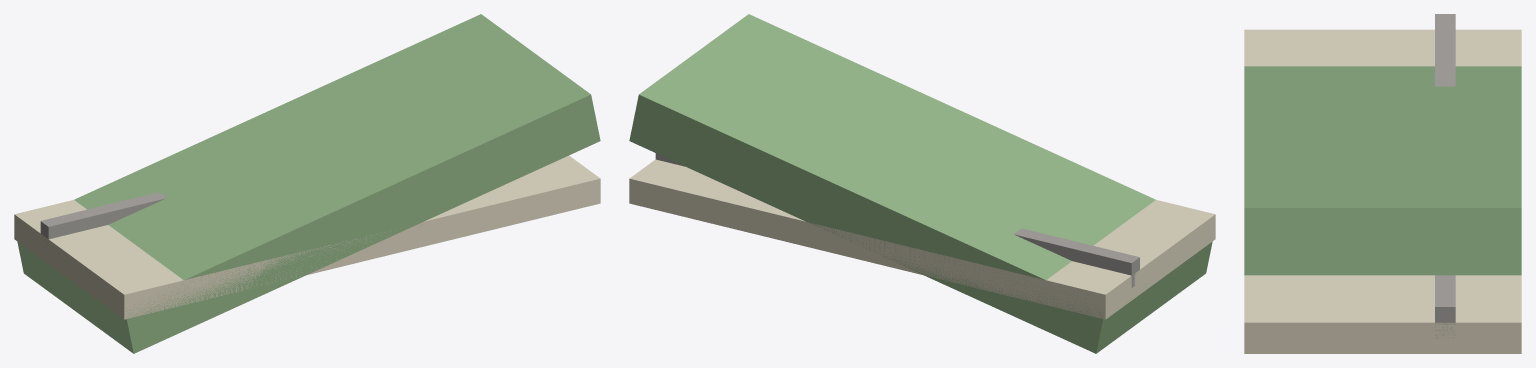
File: fort_phoenix_embankment.glb
3 renders of one model, left to right at view 1: azimuth 30°, elevation 25°; view 2: azimuth 150°, elevation 25°; view 3: azimuth 270°, elevation 25°, orthographic. The views are drawn at different scales.
Parts seen in each view (by area): view 1: embank, base, wall; view 2: embank, base, wall; view 3: embank, base, wall.
Boxes of the visible parts, x1,y1,x2,y2 form: embank: (17, 14, 600, 353); base: (14, 155, 600, 319); wall: (40, 192, 166, 247); embank: (629, 14, 1212, 353); base: (629, 159, 1215, 319); wall: (655, 153, 1139, 287); embank: (1244, 66, 1521, 275); base: (1244, 29, 1521, 353); wall: (1435, 14, 1455, 338).
Bounding box in the file's own units: 20 × 5.93 × 8.
